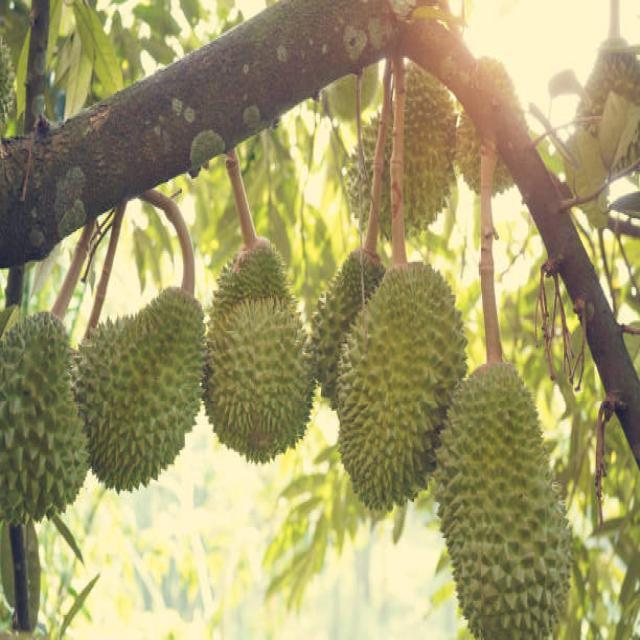RIPE: (338, 260, 464, 510), (205, 236, 315, 470)
UNRIPE: (434, 361, 572, 640), (81, 286, 204, 490), (1, 312, 87, 528)
